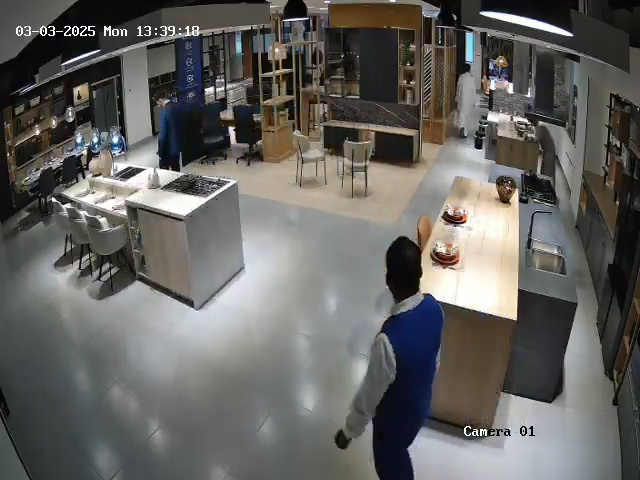employee: (334, 236, 445, 480), (144, 86, 192, 175)
male: (455, 63, 476, 139)
